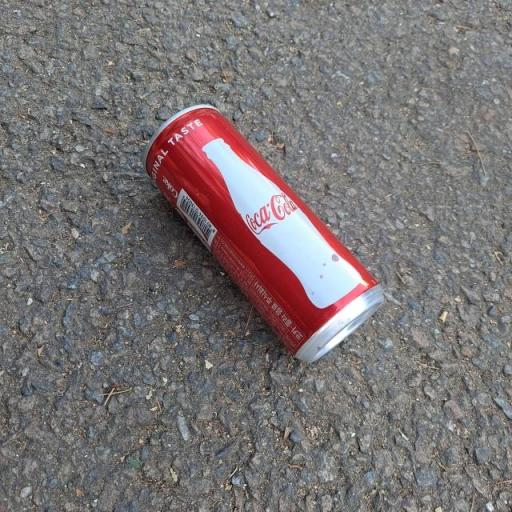metal: (133, 88, 388, 378)
